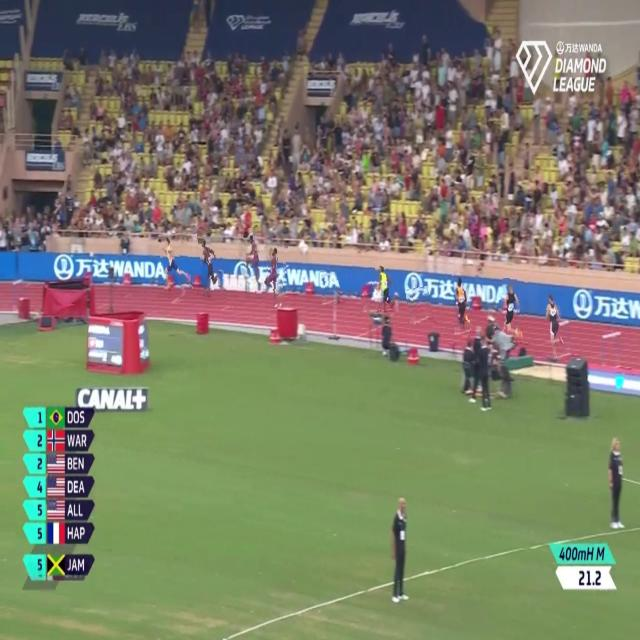athlete: (160, 232, 192, 298), (199, 228, 225, 304), (496, 279, 526, 344), (263, 242, 286, 306), (544, 292, 565, 362), (375, 255, 398, 314), (244, 227, 262, 294), (453, 272, 470, 338)
hurdle: (407, 287, 432, 331), (598, 329, 622, 368), (362, 276, 384, 318), (556, 317, 575, 359), (320, 270, 340, 303)
